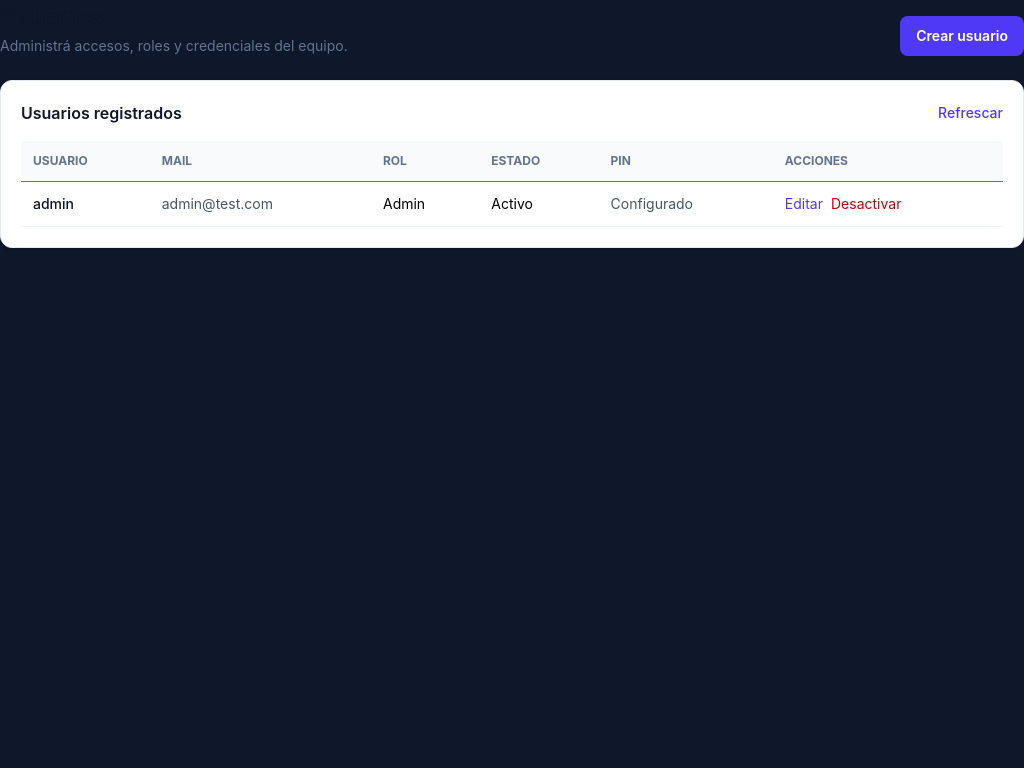
it: AltaUsuarioPage › Admin lista usuarios y abre el modal de creación
The width and height of the screenshot is (1024, 768).
Expected: the text "admin" is shown, [21, 182, 150, 226]
Click the button "Crear usuario".
click(962, 36)  # box [900, 16, 1023, 56]
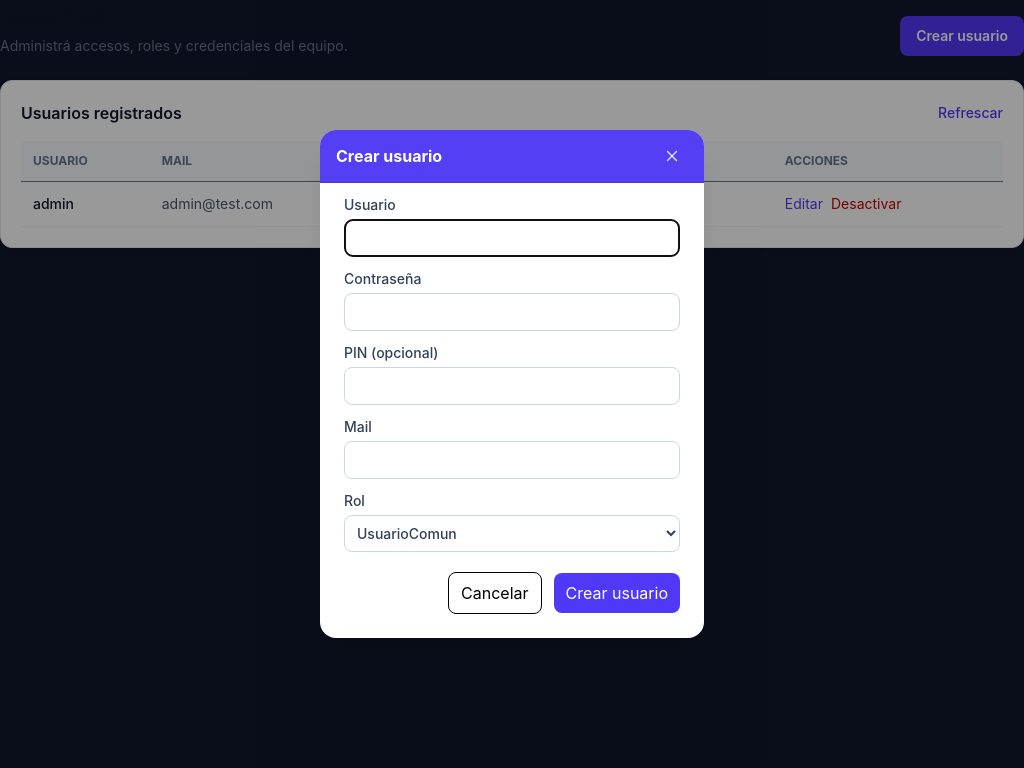
Now the dialog "Crear usuario" is shown, box [320, 130, 704, 638]
